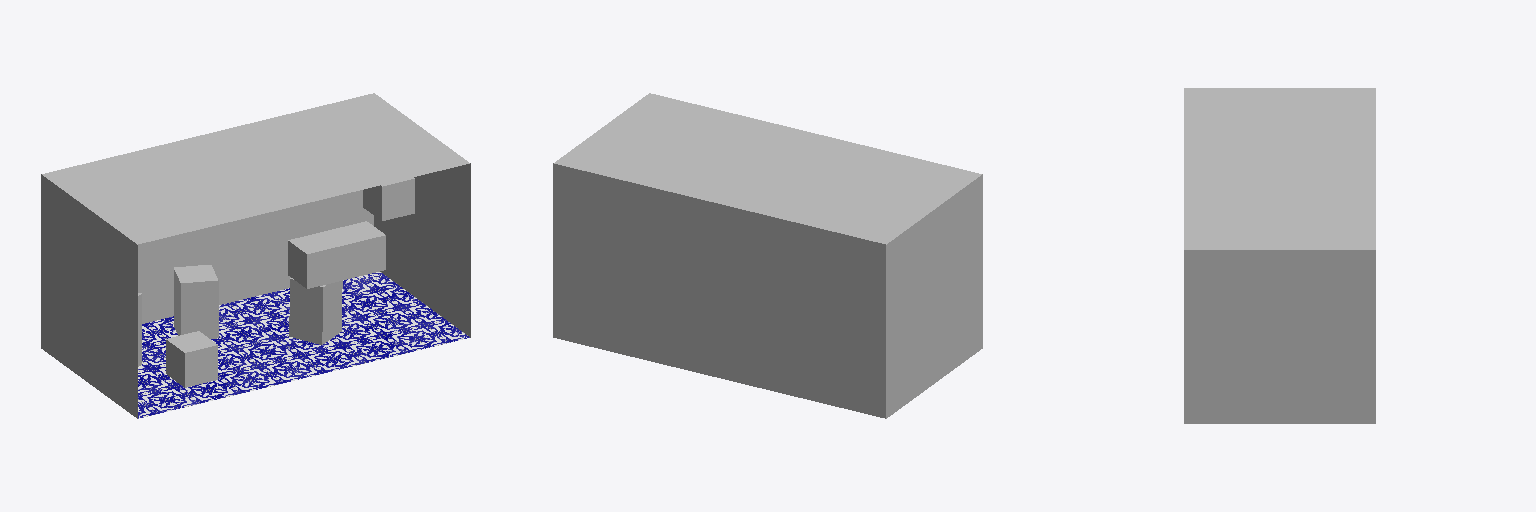
3 renders of one model, left to right at view 1: azimuth 30°, elevation 25°; view 2: azimuth 150°, elevation 25°; view 3: azimuth 270°, elevation 25°, orthographic.
Visible parts, largest first — view 1: LeftWall, Ceiling.001, Ceiling, Floor.001, RightWall.001, BackWall.001, Floor, BlueCube.002, BackWall, GreenCube, GreenCube.001, BlueCube (+1 smaller); view 2: BackWall.001, BackWall, LeftWall, Ceiling.001, Ceiling; view 3: RightWall.001, Ceiling, Ceiling.001.
Part boxes in pixels (x1,y1,x2,y2): LeftWall: (41, 174, 137, 418); Ceiling.001: (209, 93, 469, 203); Ceiling: (42, 134, 302, 244); Floor.001: (219, 272, 469, 377); RightWall.001: (374, 163, 470, 337); BackWall.001: (208, 190, 373, 304); Floor: (138, 316, 302, 418); BlueCube.002: (288, 221, 385, 288); BackWall: (138, 228, 207, 323); GreenCube: (174, 265, 218, 338); GreenCube.001: (289, 278, 342, 344); BlueCube: (166, 331, 217, 387); BackWall.001: (553, 163, 719, 377); BackWall: (720, 204, 885, 418); LeftWall: (886, 174, 982, 418); Ceiling.001: (554, 93, 814, 203); Ceiling: (721, 134, 981, 244); RightWall.001: (1184, 250, 1375, 423); Ceiling: (1184, 88, 1375, 168); Ceiling.001: (1184, 169, 1375, 249).
Size of the model in its own units: 20 by 10 by 10.
14 materials, 2 textured.